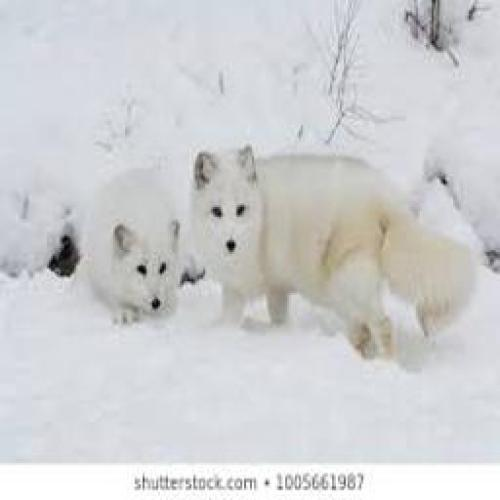arctic_fox-endangered: (193, 140, 479, 358), (82, 168, 182, 329)
